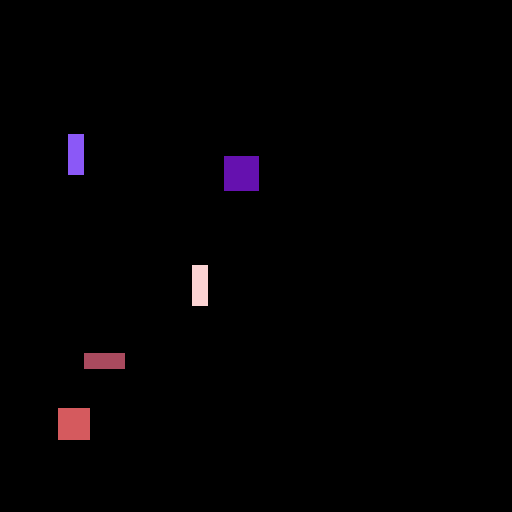side_rect: (81, 352, 127, 372)
square: (220, 153, 262, 194), (53, 403, 95, 444)
up_rect: (66, 132, 89, 176), (186, 262, 209, 306)
